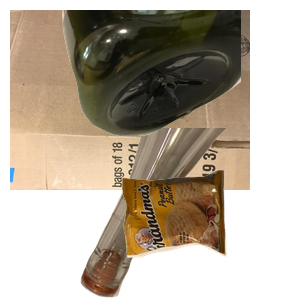cardboard: (10, 10, 250, 190)
glass: (78, 128, 298, 300)
plastic: (60, 10, 300, 139)
trash: (120, 168, 300, 300)
